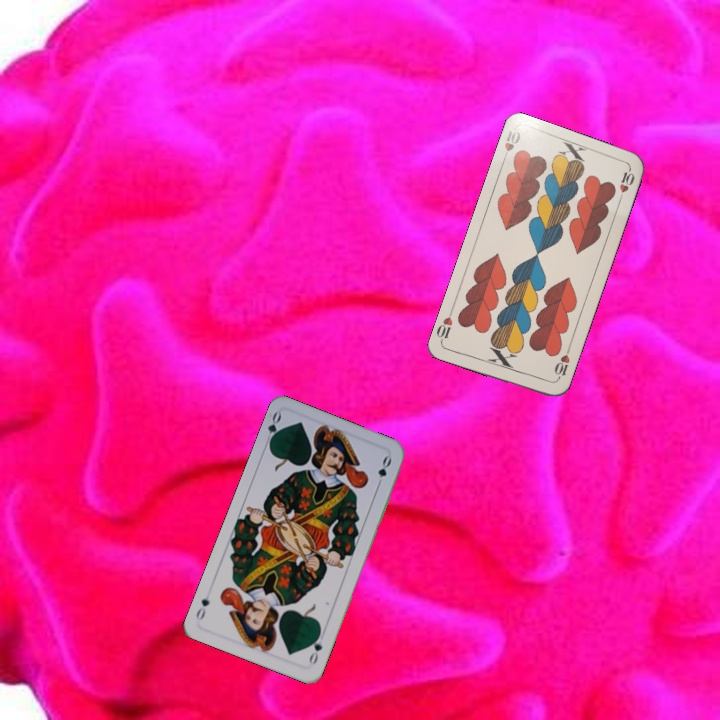GO: (261, 408, 285, 449), (305, 628, 325, 668)
H10: (498, 126, 523, 165), (550, 344, 572, 384)
